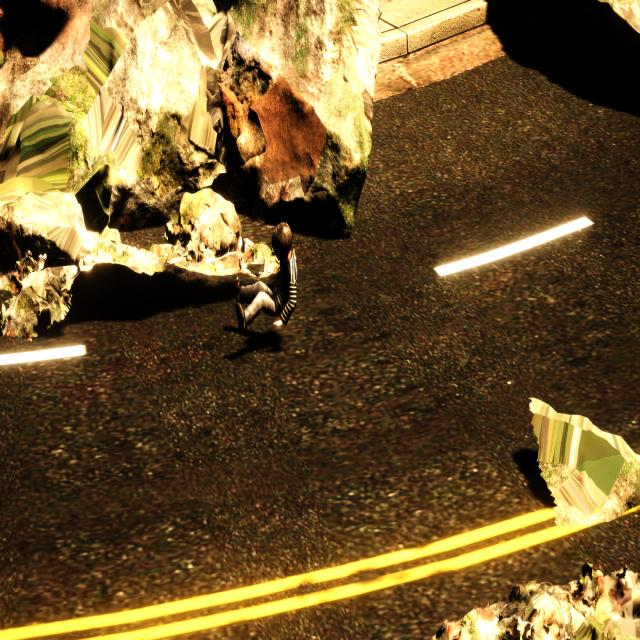Human: (231, 220, 300, 334)
